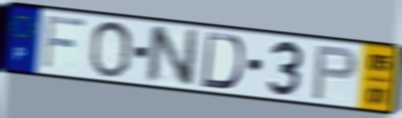3: (265, 39, 305, 98)
D: (199, 31, 246, 92)
F: (40, 13, 89, 72)
N: (145, 23, 201, 88)
O: (87, 20, 135, 80)
P: (310, 44, 360, 102)
